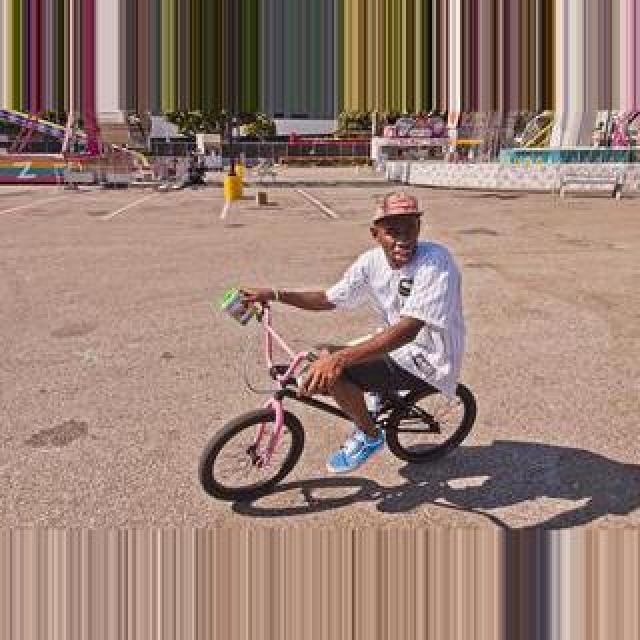MC-Bike: (242, 190, 466, 472)
Person: (196, 291, 482, 503)
